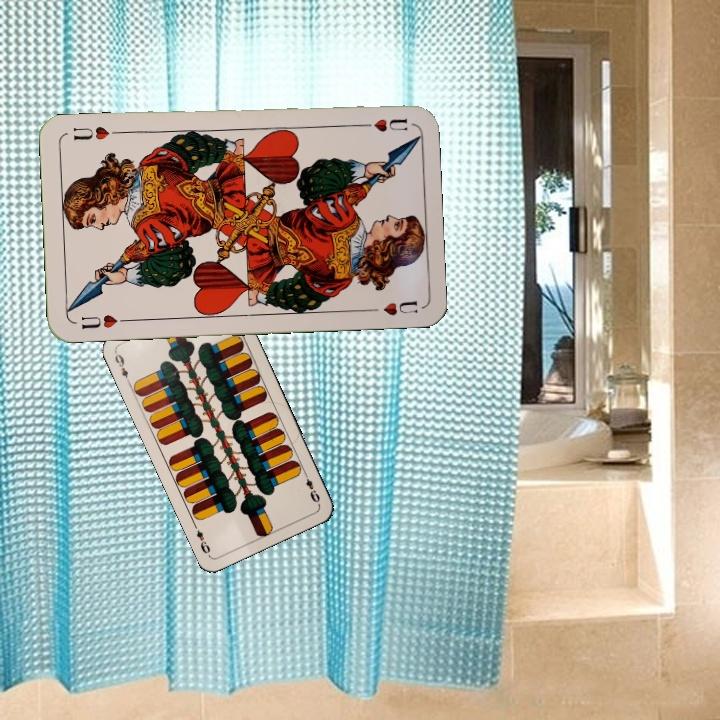E9: (110, 348, 133, 387), (300, 468, 323, 505)
HU: (353, 114, 410, 135), (77, 310, 131, 332)
